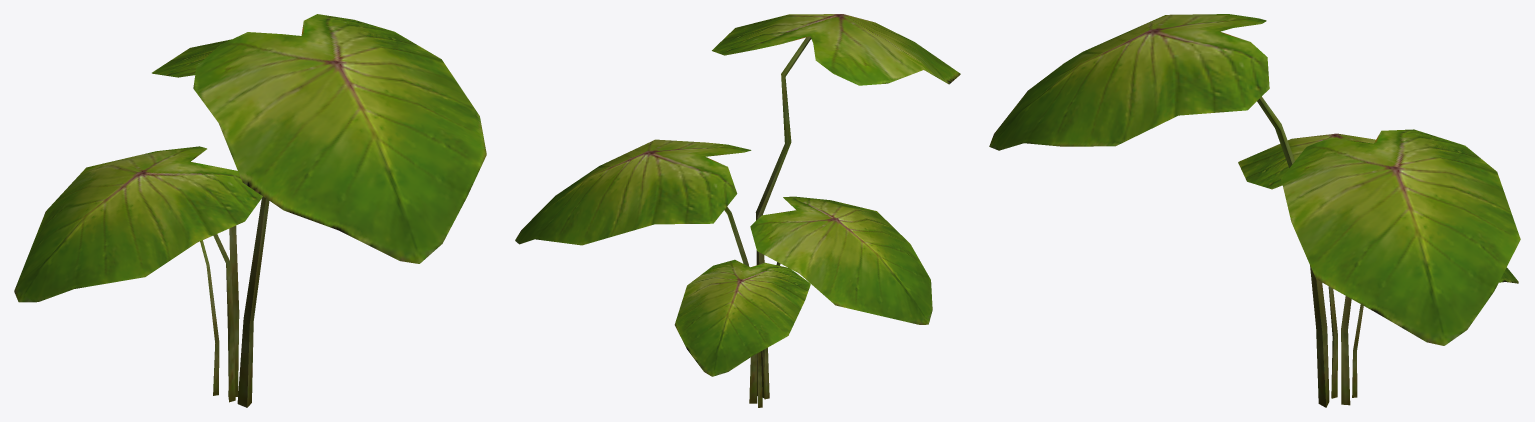
File: DN_lv4_ywFlower03.FBX
The picture shows the model from 3 angles, left to right: view 1: azimuth 30°, elevation 25°; view 2: azimuth 150°, elevation 25°; view 3: azimuth 270°, elevation 25°; orthographic projection. The views are drawn at different scales.
Parts seen in each view (by area): view 1: DN_lv4_ywFlower03; view 2: DN_lv4_ywFlower03; view 3: DN_lv4_ywFlower03.
Boxes of the visible parts, <box> form: DN_lv4_ywFlower03: <box>14,14,486,407</box>; DN_lv4_ywFlower03: <box>515,14,960,407</box>; DN_lv4_ywFlower03: <box>989,14,1520,407</box>.
Bounding box in the file's own units: 523 × 443 × 573.
